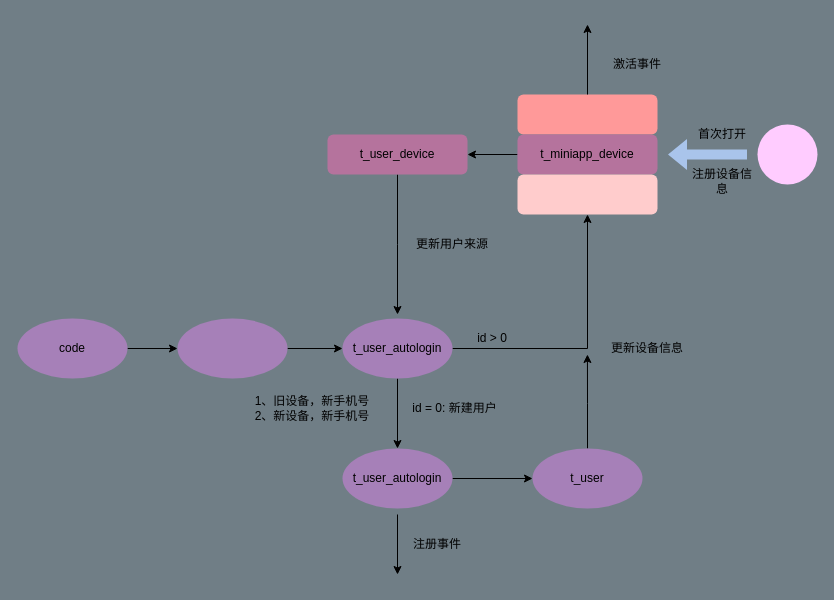
The diagram is 834 pixels wide and 600 high, and some of its shapes have lost their labels. Each missing label, with the centre of its shape:
open id union id: the point at 232,348
t_app_device: the point at 587,114
t_web_device: the point at 587,194
